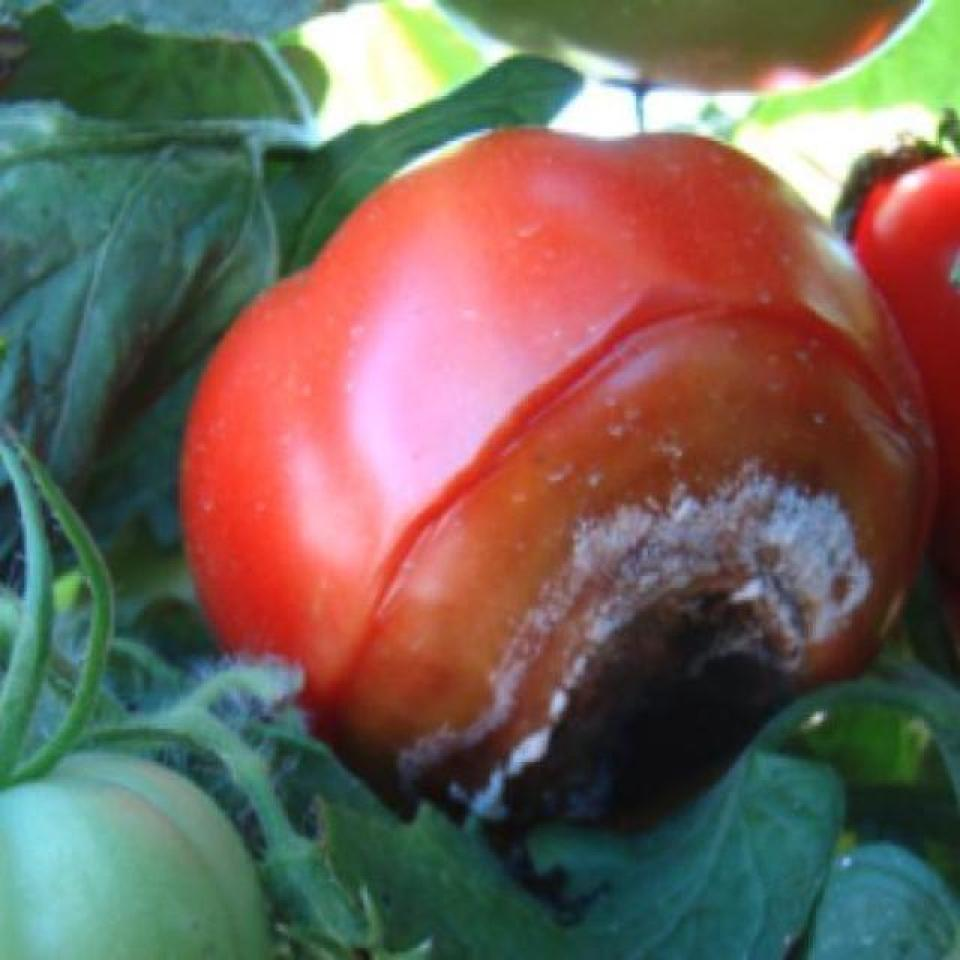Blossom_end_rot: (383, 468, 839, 836)
